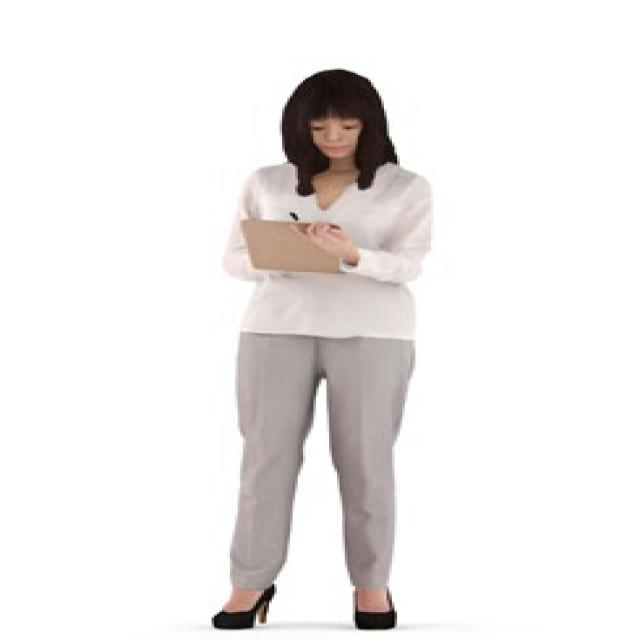standing: (197, 68, 443, 632)
